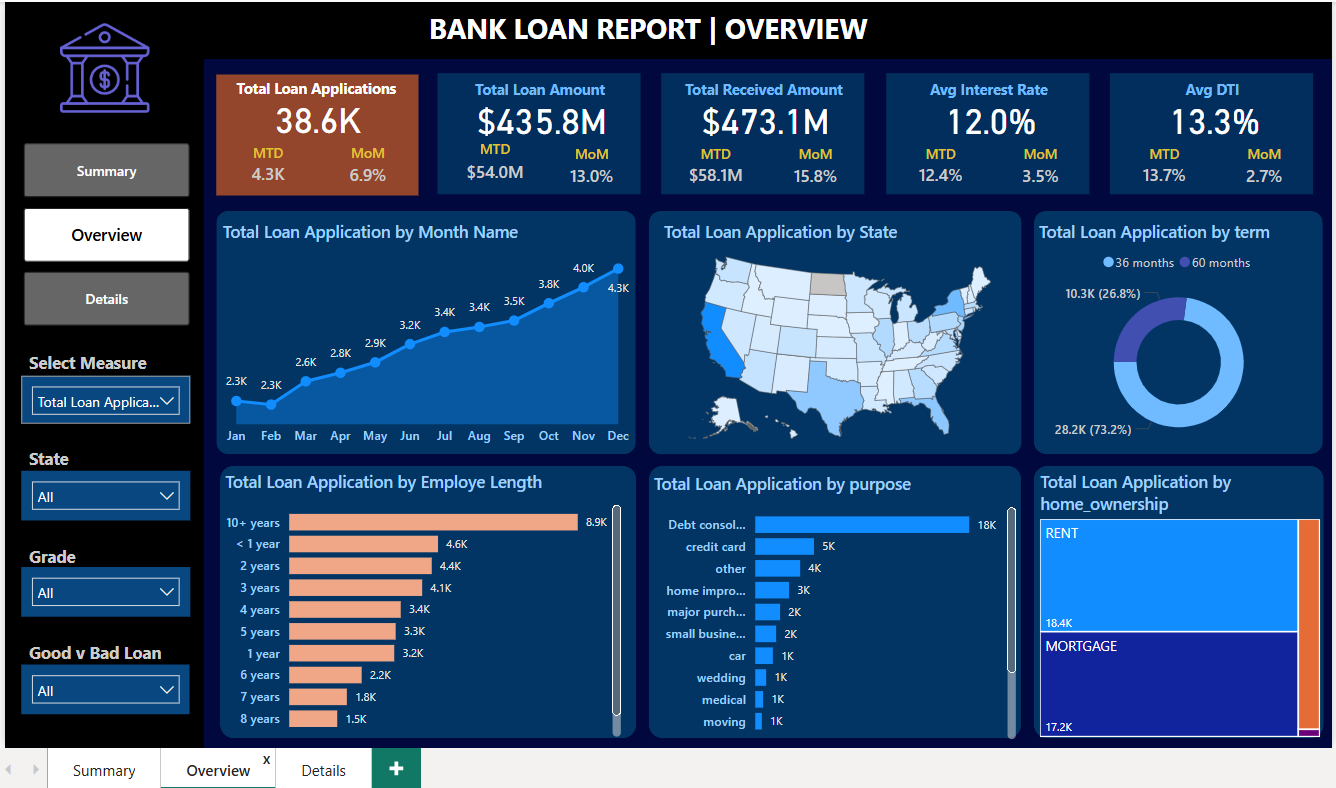

The dashboard page shown, as its layout file describes it:
{"tool":"powerbi","page":{"name":"Overview","canvas":[1280,720],"ordinal":1},"visuals":[{"type":"shape","box":[0,0,1280,55],"z":0},{"type":"cardVisual","fields":{"Data":["_Measure Table.Total Application"]},"box":[219.3,70.7,165.9,75],"z":0,"group":"g4"},{"type":"cardVisual","fields":{"Data":["_Measure Table.Avg interest rate"]},"box":[868,71.6,165.9,75],"z":0,"group":"g7"},{"type":"cardVisual","fields":{"Data":["_Measure Table.Total recived amount"]},"box":[651.7,71.8,165.9,75],"z":0,"group":"g8"},{"type":"cardVisual","fields":{"Data":["_Measure Table.Avg dti rate"]},"box":[1084.3,71.8,165.9,75],"z":0,"group":"g9"},{"type":"cardVisual","fields":{"Data":["_Measure Table.Total loan amount"]},"box":[435.6,72.1,165.9,75],"z":0,"group":"g10"},{"type":"shape","box":[0,0,191.9,719.9],"z":1000},{"type":"textbox","box":[201.5,69,197.9,31.4],"z":1000,"group":"g4"},{"type":"textbox","box":[850.2,69.9,197.9,31.4],"z":1000,"group":"g7"},{"type":"textbox","box":[633.9,70.1,197.9,31.4],"z":1000,"group":"g8"},{"type":"textbox","box":[1066.5,70.1,197.9,31.4],"z":1000,"group":"g9"},{"type":"textbox","box":[417.8,70.4,197.9,31.4],"z":1000,"group":"g10"},{"type":"textbox","box":[404.2,2.4,470.5,55.5],"z":2000},{"type":"card","title":"MTD","fields":{"Values":["_Measure Table.MTD loan amount"]},"box":[432.5,132.7,82,54.3],"z":2000,"group":"g10"},{"type":"card","title":"MTD","fields":{"Values":["_Measure Table.mtd application"]},"box":[222,136.6,63.9,49.5],"z":2000,"group":"g4"},{"type":"card","title":"MTD","fields":{"Values":["_Measure Table.MTD avg interest rate"]},"box":[870.7,137.5,63.9,49.5],"z":2000,"group":"g7"},{"type":"card","title":"MTD","fields":{"Values":["_Measure Table.MTD recived amount"]},"box":[654.4,137.7,63.9,49.5],"z":2000,"group":"g8"},{"type":"card","title":"MTD","fields":{"Values":["_Measure Table.MTD avg dti rate"]},"box":[1087,137.7,63.9,49.5],"z":2000,"group":"g9"},{"type":"group","id":"g1","title":"Group 3","box":[417.8,69.3,197.9,118.2],"z":3000},{"type":"shape","box":[203.9,70.2,195.4,117],"z":3000,"group":"g11"},{"type":"card","title":"MoM","fields":{"Values":["_Measure Table.MoM applications"]},"box":[318.9,137.1,63.5,49.1],"z":3000,"group":"g4"},{"type":"card","title":"MoM","fields":{"Values":["_Measure Table.Mom Avg interest rate"]},"box":[967.6,138,63.5,49.1],"z":3000,"group":"g7"},{"type":"card","title":"MoM","fields":{"Values":["_Measure Table.MoM recived amount"]},"box":[751.3,138.2,63.5,49.1],"z":3000,"group":"g8"},{"type":"card","title":"MoM","fields":{"Values":["_Measure Table.MoM avg dti rate"]},"box":[1183.9,138.2,63.5,49.1],"z":3000,"group":"g9"},{"type":"card","title":"MoM","fields":{"Values":["_Measure Table.MoM loan amount"]},"box":[535.2,138.5,63.5,49.1],"z":3000,"group":"g10"},{"type":"group","id":"g2","title":"Group 1","box":[201.5,69,197.9,117.1],"z":4000,"group":"g11"},{"type":"group","id":"g3","title":"Group 3","box":[633.9,69,197.9,118.2],"z":4000},{"type":"group","id":"g4","title":"Group 2","box":[201.5,69,197.9,117.1],"z":4005,"group":"g2"},{"type":"group","id":"g5","title":"Group 3","box":[850.2,68.8,197.9,118.2],"z":5000},{"type":"shape","box":[850.2,68.8,196.2,116.9],"z":5000,"group":"g5"},{"type":"shape","box":[633.9,69,196.2,116.9],"z":5000,"group":"g3"},{"type":"shape","box":[1066.5,69,196.2,116.9],"z":5000,"group":"g6"},{"type":"shape","box":[417.8,69.3,196.2,116.9],"z":5000,"group":"g1"},{"type":"group","id":"g6","title":"Group 3","box":[1066.5,69,197.9,118.2],"z":6000},{"type":"group","id":"g7","title":"Group 2","box":[850.2,69.9,197.7,116.9],"z":6000,"group":"g5"},{"type":"group","id":"g8","title":"Group 2","box":[633.9,70.1,197.7,116.9],"z":6000,"group":"g3"},{"type":"group","id":"g9","title":"Group 2","box":[1066.5,70.1,197.7,116.9],"z":6000,"group":"g6"},{"type":"group","id":"g10","title":"Group 2","box":[417.8,70.4,197.9,117.1],"z":6000,"group":"g1"},{"type":"group","id":"g11","title":"Group 4","box":[201.5,69,197.9,118.2],"z":7000},{"type":"shape","box":[203.9,201.5,405,235],"z":8000},{"type":"slicer","fields":{"Values":["bank_loan_data.address_state"]},"box":[15.7,451.9,162.9,48.3],"z":9000},{"type":"textbox","box":[18.1,424.7,66.4,33.8],"z":10000},{"type":"slicer","fields":{"Values":["bank_loan_data.grade"]},"box":[15.7,545.6,162.9,48.3],"z":11000},{"type":"textbox","box":[18.1,518.8,66.4,33.8],"z":12000},{"type":"slicer","fields":{"Values":["bank_loan_data.good - bad loan"]},"box":[15.7,639.2,162.8,47.7],"z":13000},{"type":"textbox","box":[18.1,611.7,160.5,33.8],"z":14000},{"type":"textbox","box":[18.1,331.8,142.4,35],"z":16000},{"type":"areaChart","fields":{"Y":["_Measure Table.Total Loan Application"],"Category":["Date Table.Month Name"]},"box":[205.1,209.9,405.4,226.8],"z":17000},{"type":"shape","box":[621.3,201.5,360,235.3],"z":18000},{"type":"shapeMap","fields":{"Value":["_Measure Table.Total Loan Application"],"Category":["bank_loan_data.address_state"]},"box":[631.4,210.5,350,226.4],"z":19000},{"type":"shape","box":[992.4,201.9,279,235],"z":20000},{"type":"donutChart","fields":{"Y":["_Measure Table.Total Loan Application"],"Category":["bank_loan_data.term"]},"box":[992.4,210.5,280.2,226.4],"z":21000},{"type":"shape","box":[621.3,447.6,359.5,263],"z":22000},{"type":"shape","box":[992.9,447.6,279.9,263],"z":23000},{"type":"shape","box":[207.5,447.6,401.7,263],"z":24000},{"type":"barChart","fields":{"Y":["_Measure Table.Total Loan Application"],"Category":["bank_loan_data.emp_length"]},"box":[207.5,451.2,392.1,263],"z":25000},{"type":"barChart","fields":{"Y":["_Measure Table.Total Loan Application"],"Category":["bank_loan_data.purpose"]},"box":[621.3,453.6,359.5,263],"z":26000},{"type":"treemap","fields":{"Values":["_Measure Table.Total Loan Application"],"Group":["bank_loan_data.home_ownership"]},"box":[994.1,451.2,279.9,263],"z":27000},{"type":"slicer","fields":{"Values":["Select Measure.Select Measure"]},"box":[15.7,360.7,162.9,45.8],"z":27001},{"type":"image","box":[48.3,13.3,96.5,100.1],"z":27002},{"type":"pageNavigator","box":[18.1,136.3,160.5,176.1],"z":27003}]}

Visuals, with their boxes on the page's 1280x720 design canvas (x1, y1, x2, y2). These are canvas units, not pixel positions in the 1336x788 screenshot, which may show the page scaled, cropped or inside an application window:
shape: bbox(0, 0, 1280, 55)
cardVisual - _Measure Table.Total Application: bbox(219, 71, 385, 146)
cardVisual - _Measure Table.Avg interest rate: bbox(868, 72, 1034, 147)
cardVisual - _Measure Table.Total recived amount: bbox(652, 72, 818, 147)
cardVisual - _Measure Table.Avg dti rate: bbox(1084, 72, 1250, 147)
cardVisual - _Measure Table.Total loan amount: bbox(436, 72, 602, 147)
shape: bbox(0, 0, 192, 720)
textbox: bbox(202, 69, 399, 100)
textbox: bbox(850, 70, 1048, 101)
textbox: bbox(634, 70, 832, 102)
textbox: bbox(1066, 70, 1264, 102)
textbox: bbox(418, 70, 616, 102)
textbox: bbox(404, 2, 875, 58)
"MTD" card: bbox(432, 133, 514, 187)
"MTD" card: bbox(222, 137, 286, 186)
"MTD" card: bbox(871, 138, 935, 187)
"MTD" card: bbox(654, 138, 718, 187)
"MTD" card: bbox(1087, 138, 1151, 187)
"Group 3" group: bbox(418, 69, 616, 188)
shape: bbox(204, 70, 399, 187)
"MoM" card: bbox(319, 137, 382, 186)
"MoM" card: bbox(968, 138, 1031, 187)
"MoM" card: bbox(751, 138, 815, 187)
"MoM" card: bbox(1184, 138, 1247, 187)
"MoM" card: bbox(535, 138, 599, 188)
"Group 1" group: bbox(202, 69, 399, 186)
"Group 3" group: bbox(634, 69, 832, 187)
"Group 2" group: bbox(202, 69, 399, 186)
"Group 3" group: bbox(850, 69, 1048, 187)
shape: bbox(850, 69, 1046, 186)
shape: bbox(634, 69, 830, 186)
shape: bbox(1066, 69, 1263, 186)
shape: bbox(418, 69, 614, 186)
"Group 3" group: bbox(1066, 69, 1264, 187)
"Group 2" group: bbox(850, 70, 1048, 187)
"Group 2" group: bbox(634, 70, 832, 187)
"Group 2" group: bbox(1066, 70, 1264, 187)
"Group 2" group: bbox(418, 70, 616, 188)
"Group 4" group: bbox(202, 69, 399, 187)
shape: bbox(204, 202, 609, 436)
slicer - bank_loan_data.address_state: bbox(16, 452, 179, 500)
textbox: bbox(18, 425, 84, 458)
slicer - bank_loan_data.grade: bbox(16, 546, 179, 594)
textbox: bbox(18, 519, 84, 553)
slicer - bank_loan_data.good - bad loan: bbox(16, 639, 178, 687)
textbox: bbox(18, 612, 179, 646)
textbox: bbox(18, 332, 160, 367)
areaChart - _Measure Table.Total Loan Application x Date Table.Month Name: bbox(205, 210, 610, 437)
shape: bbox(621, 202, 981, 437)
shapeMap - _Measure Table.Total Loan Application x bank_loan_data.address_state: bbox(631, 210, 981, 437)
shape: bbox(992, 202, 1271, 437)
donutChart - _Measure Table.Total Loan Application x bank_loan_data.term: bbox(992, 210, 1273, 437)
shape: bbox(621, 448, 981, 711)
shape: bbox(993, 448, 1273, 711)
shape: bbox(208, 448, 609, 711)
barChart - _Measure Table.Total Loan Application x bank_loan_data.emp_length: bbox(208, 451, 600, 714)
barChart - _Measure Table.Total Loan Application x bank_loan_data.purpose: bbox(621, 454, 981, 717)
treemap - _Measure Table.Total Loan Application x bank_loan_data.home_ownership: bbox(994, 451, 1274, 714)
slicer - Select Measure.Select Measure: bbox(16, 361, 179, 406)
image: bbox(48, 13, 145, 113)
pageNavigator: bbox(18, 136, 179, 312)
